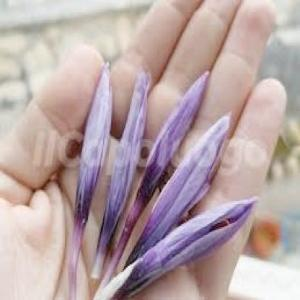Saffron: (125, 208, 265, 300), (140, 125, 238, 255), (126, 88, 204, 242), (58, 67, 114, 242), (98, 72, 150, 246)
